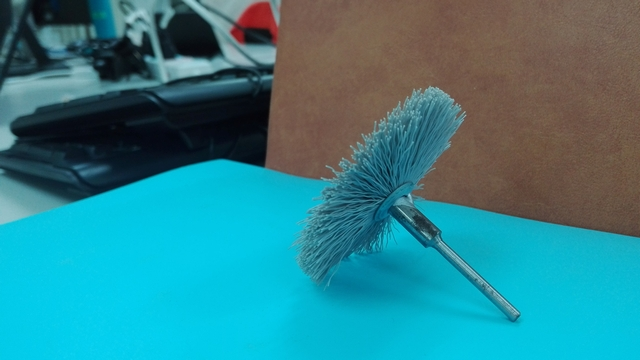TOOL: (264, 52, 528, 337), (267, 59, 510, 249), (277, 122, 474, 273)
